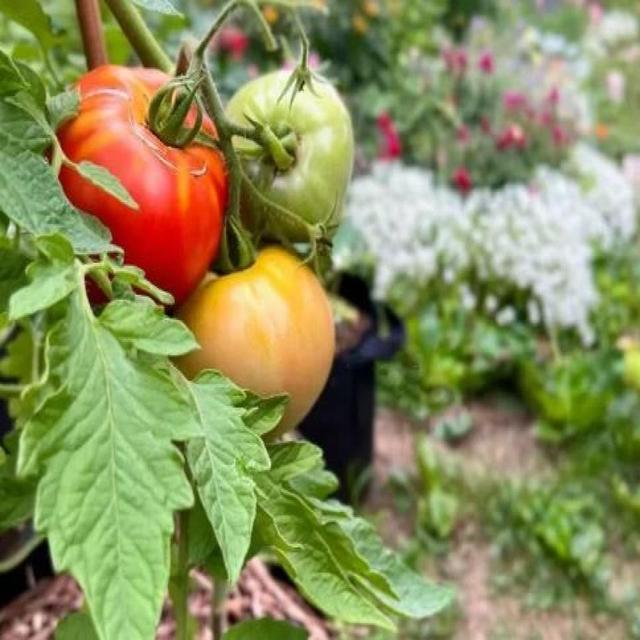Healthy Fruit: (32, 43, 154, 170)
